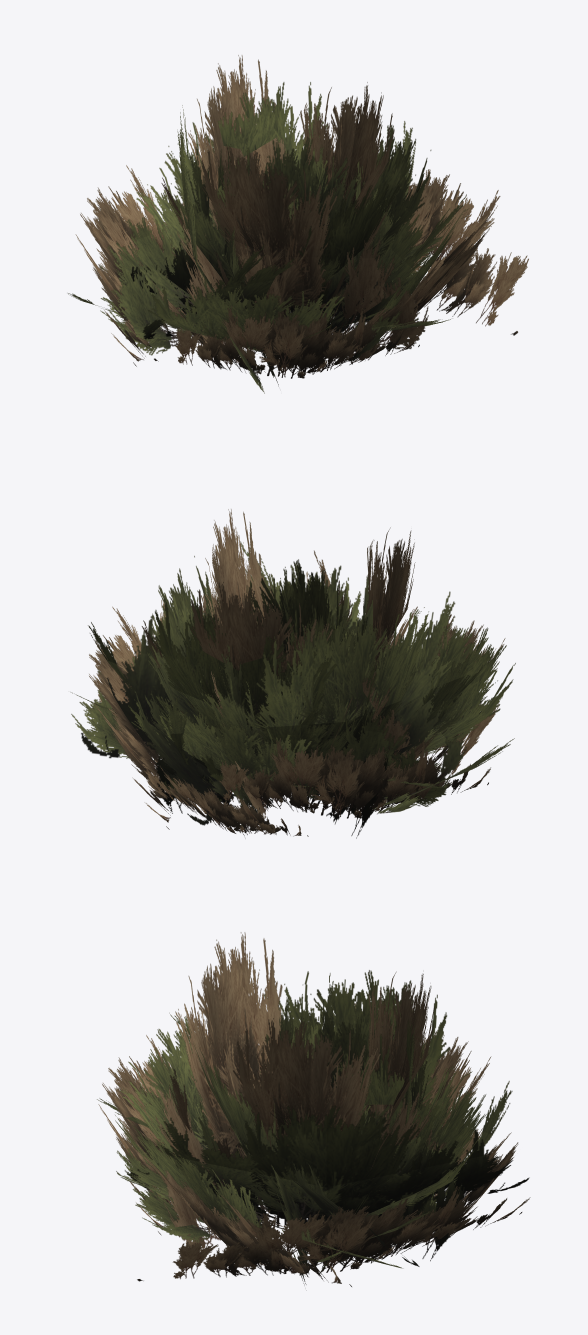
File: Bush_b.glb
3 renders of one model, top to bottom at view 1: azimuth 30°, elevation 25°; view 2: azimuth 150°, elevation 25°; view 3: azimuth 270°, elevation 25°, orthographic. The views are drawn at different scales.
Visible parts, largest first — view 1: BushB_LOD0; view 2: BushB_LOD0; view 3: BushB_LOD0.
Boxes of the visible parts, bbox=[...] form: BushB_LOD0: bbox=[68, 55, 528, 393]; BushB_LOD0: bbox=[71, 509, 515, 838]; BushB_LOD0: bbox=[97, 932, 530, 1286].
Size of what is drawn, in the model's own units: 2.99 by 1.43 by 2.61.
1 material, 1 textured.
